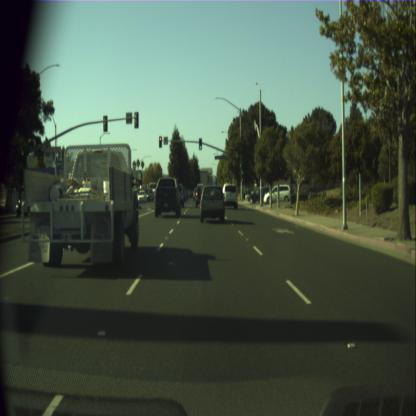Green: (198, 138, 202, 150), (242, 164, 244, 174)
RedLeft: (158, 136, 162, 148)
